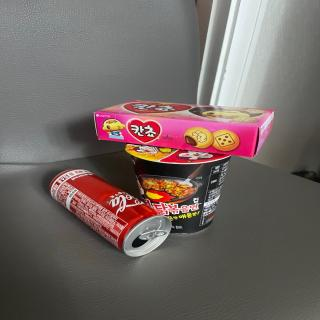cocacola: (38, 157, 191, 269)
